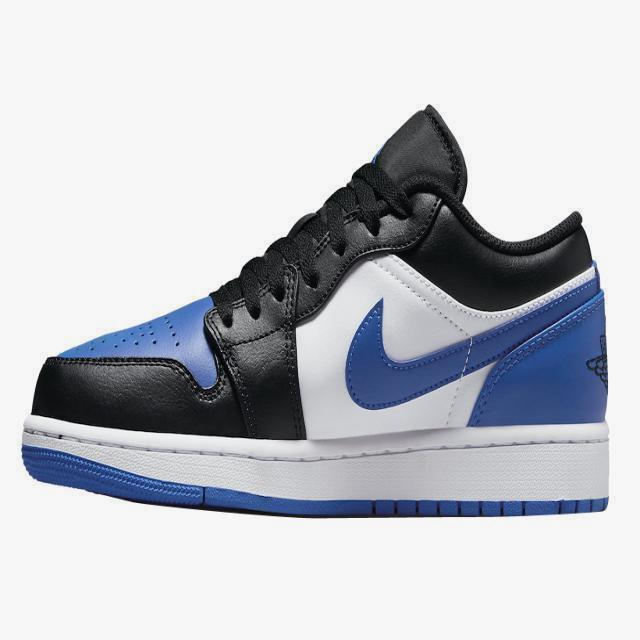nike_original_jordan: (16, 99, 611, 522)
